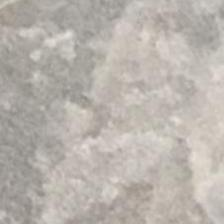Non_Crack: (15, 31, 218, 186)
